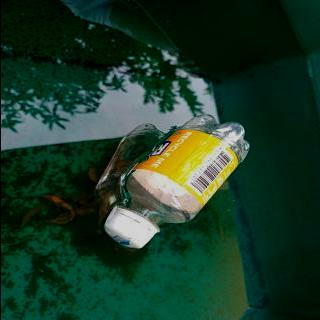bottle: (101, 113, 252, 250)
